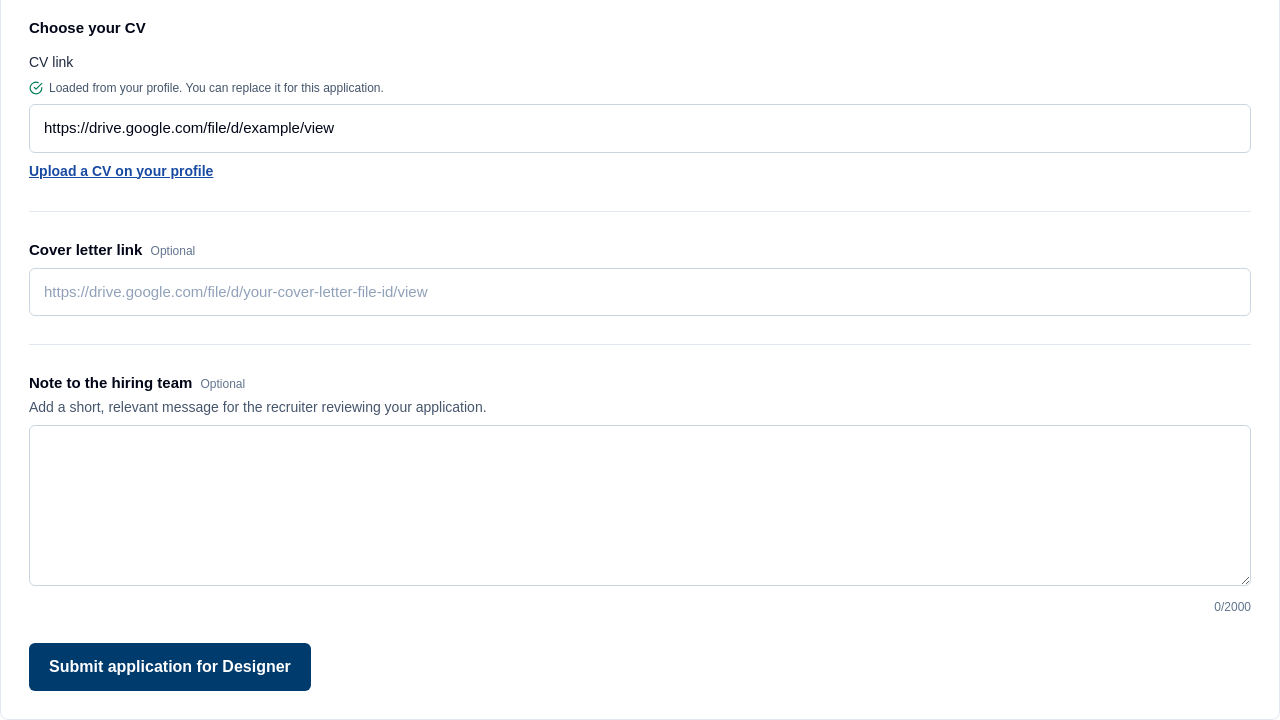
ApplicationForm profile completion prompt › blocks a below-minimum candidate when enforcement is enabled
(page scrolled)
Click the button "Submit application for Designer" at x=170, y=667, box [29, 643, 311, 691]
(page scrolled)
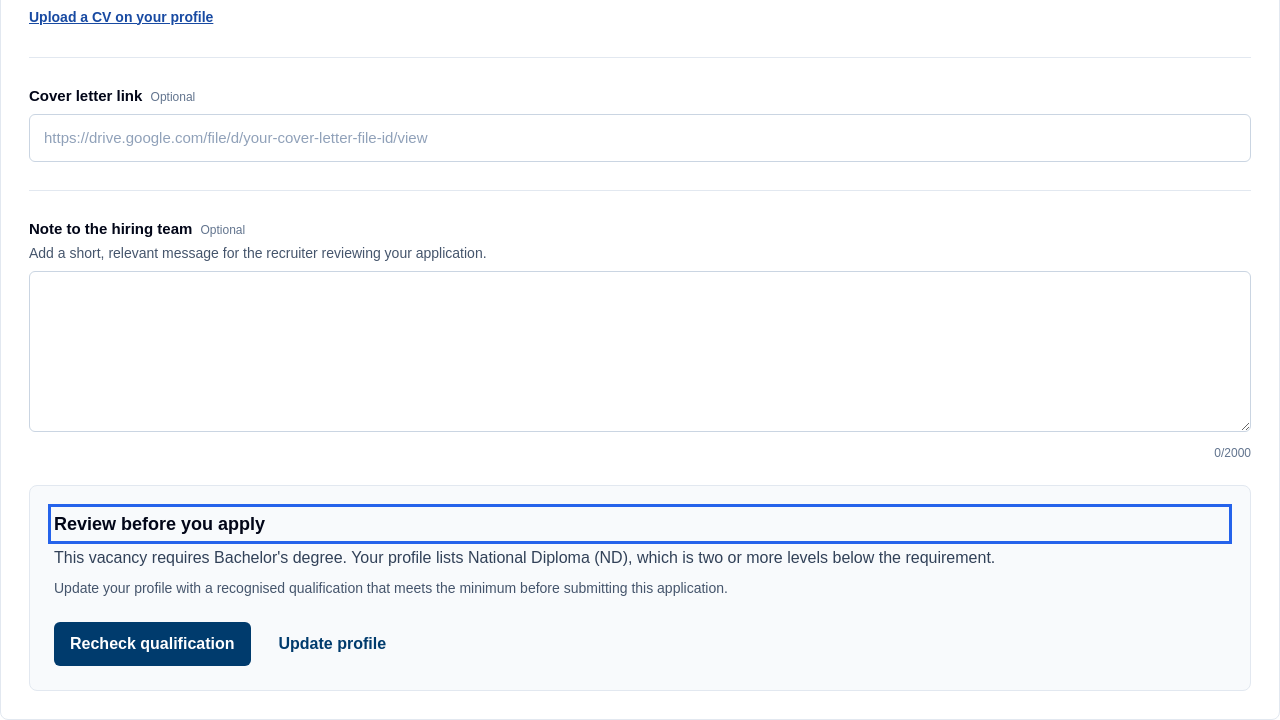
Check: the text "two or more levels below the requirement" is shown, box [54, 549, 995, 566]
Check: the button "Recheck qualification" is shown, box [54, 622, 250, 666]
